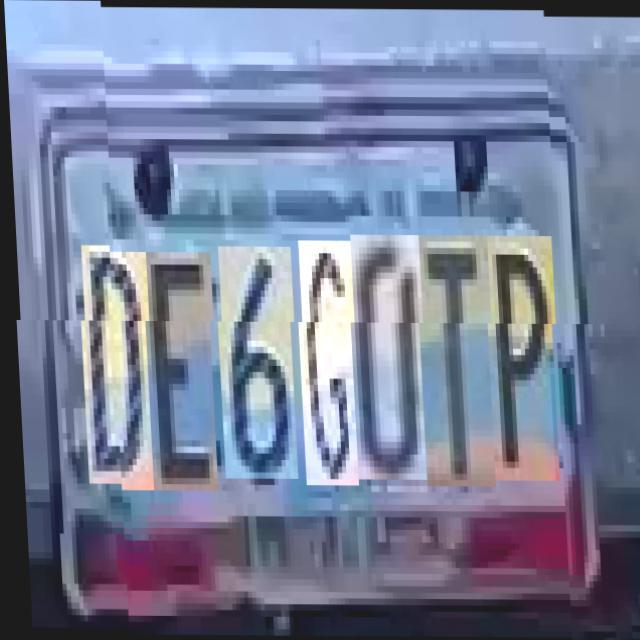0: (348, 234, 426, 479)
6: (215, 246, 297, 478)
D: (78, 251, 152, 490)
E: (143, 252, 217, 490)
G: (296, 240, 358, 486)
P: (484, 235, 558, 480)
T: (416, 234, 495, 486)
